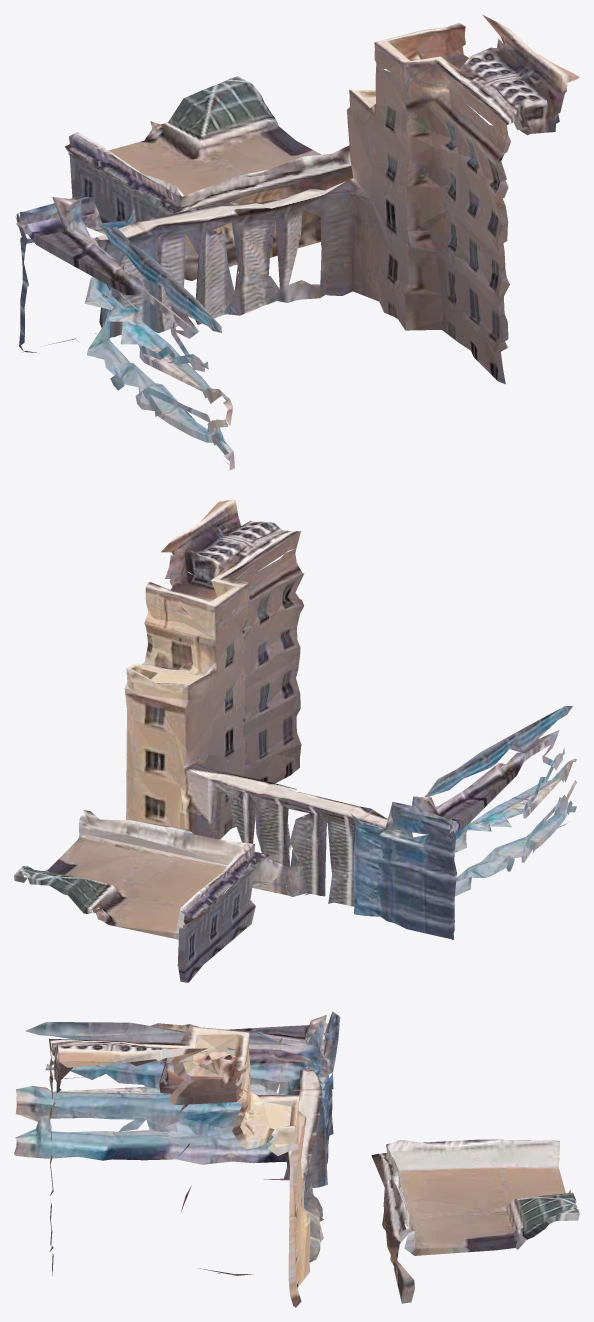
3 renders of one model, top to bottom at view 1: azimuth 30°, elevation 25°; view 2: azimuth 150°, elevation 25°; view 3: azimuth 270°, elevation 25°, orthographic. The views are drawn at different scales.
Visible parts, largest first — view 1: Mesh_0; view 2: Mesh_0; view 3: Mesh_0.
Part boxes in pixels (x1,y1,x2,y2): Mesh_0: (15, 15, 579, 470); Mesh_0: (14, 499, 576, 982); Mesh_0: (14, 1011, 579, 1307).
Bounding box in the file's own units: 32.09 × 21.62 × 41.48.
1 material, 1 textured.
